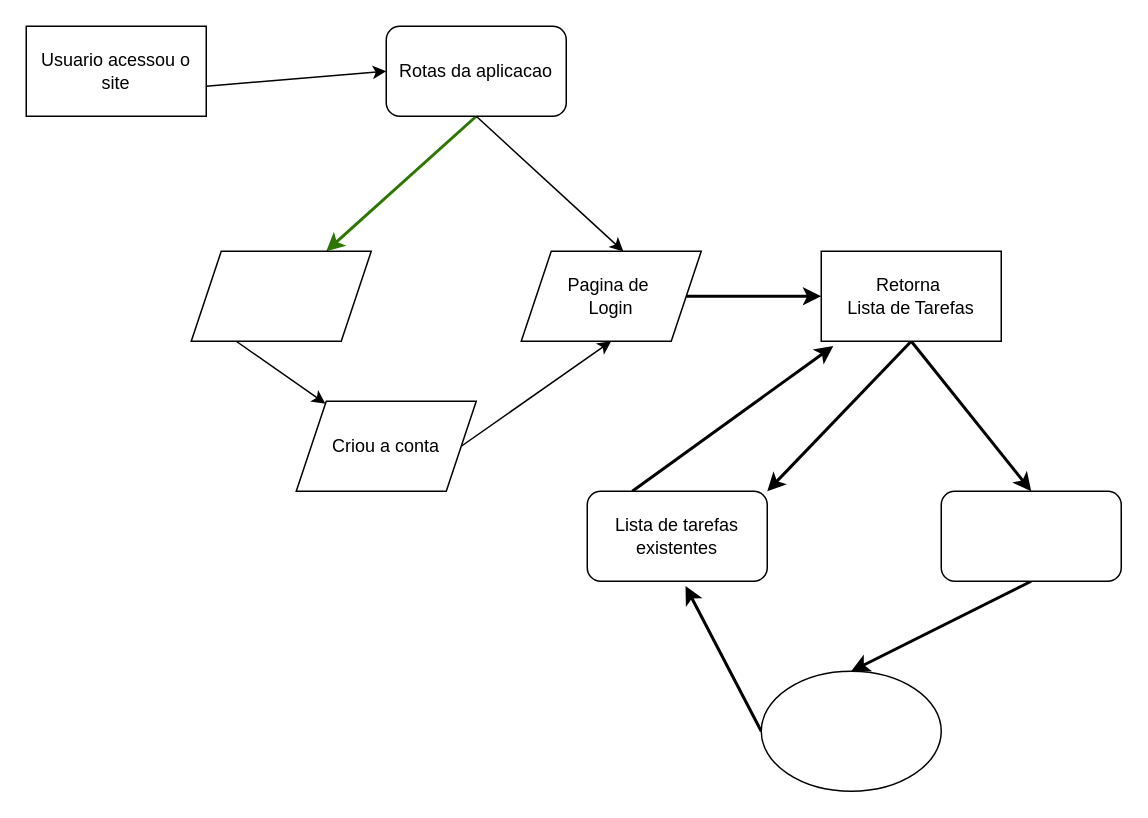
Some shapes in this 1148 by 818 pixel diagram are drawn without their labels. Here are the shapes that lost their labels. From the top down, the centre of each, then its label:
(280,295): Pagina de Register
(1030,535): Nao possui lista
(850,730): Cria uma lista
